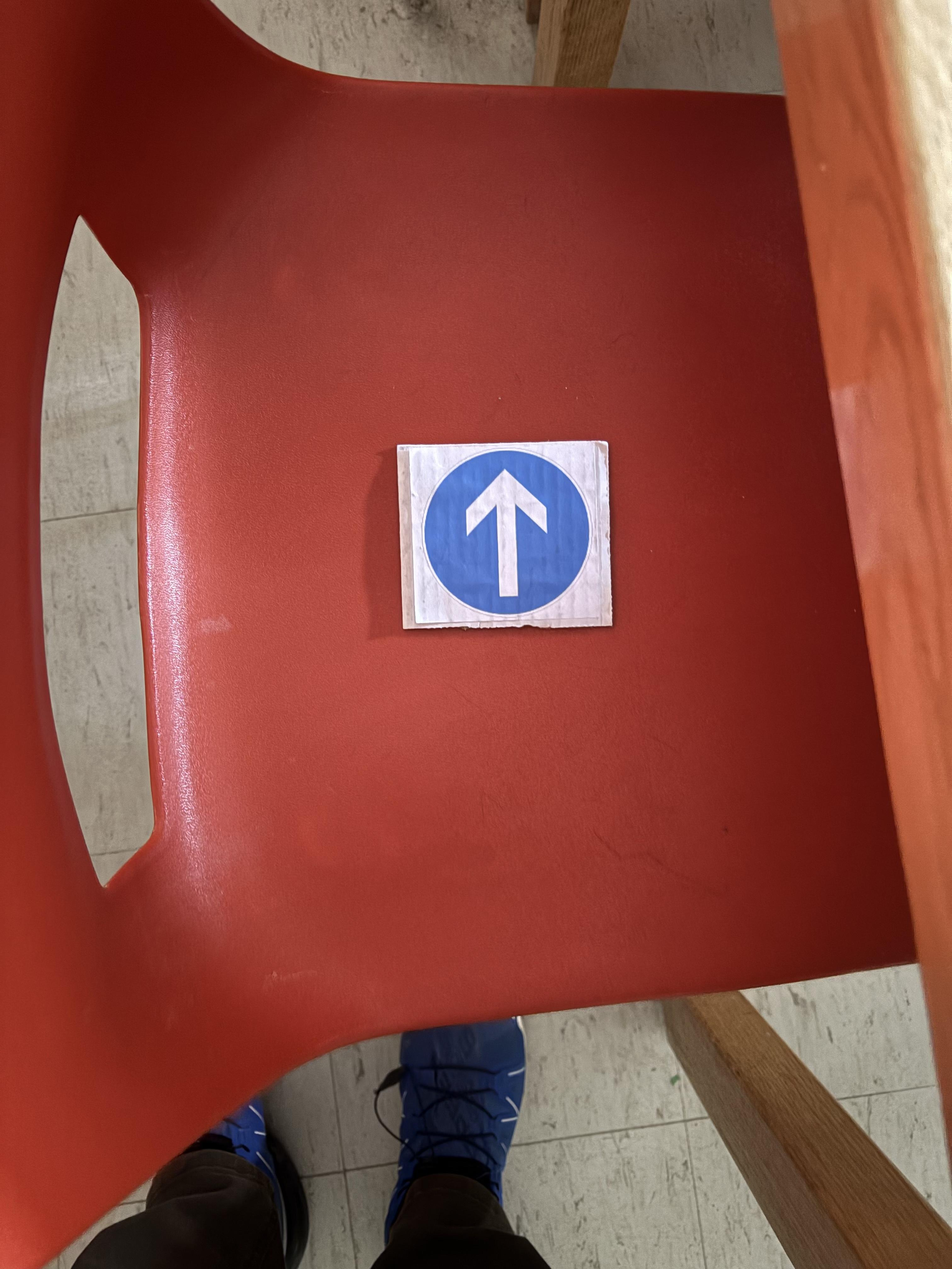Proceed Forward: (394, 438, 626, 638)
